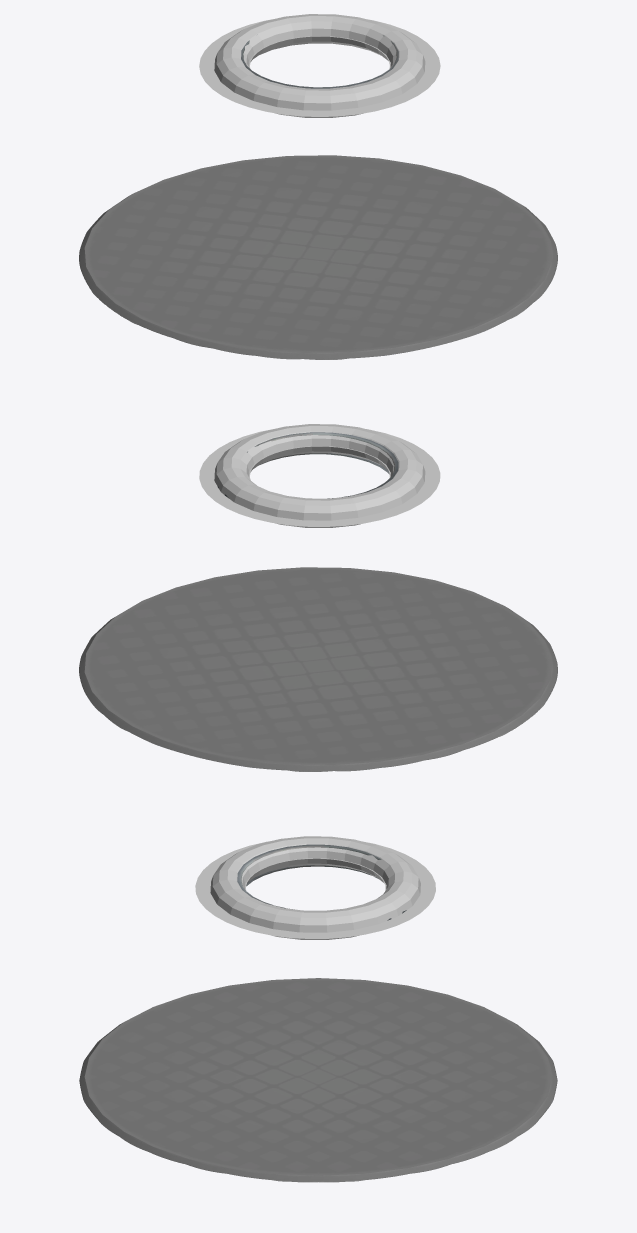
Rendered from pref_TPC_v2_WSJ_NeutralScoreArea03_purple_interfere_lv2.fbx.
3 views of the same model, one above another, from view 1: azimuth 30°, elevation 25°; view 2: azimuth 150°, elevation 25°; view 3: azimuth 270°, elevation 25° (orthographic).
Parts seen in each view (by area): view 1: sm_prop_platform06a_lv2, sm_fx_0037_ring_04_xz (1), sm_fx_0037_ring_04_xz; view 2: sm_prop_platform06a_lv2, sm_fx_0037_ring_04_xz (1), sm_fx_0037_ring_04_xz, sm_prop_platform06b_lv2; view 3: sm_prop_platform06a_lv2, sm_fx_0037_ring_04_xz (1), sm_fx_0037_ring_04_xz, sm_prop_platform06b_lv2.
Part boxes in pixels (x1,y1,x2,y2): sm_prop_platform06a_lv2: (79, 155, 557, 359); sm_fx_0037_ring_04_xz (1): (214, 14, 425, 117); sm_fx_0037_ring_04_xz: (199, 19, 440, 116); sm_prop_platform06a_lv2: (79, 567, 557, 771); sm_fx_0037_ring_04_xz (1): (214, 424, 425, 527); sm_fx_0037_ring_04_xz: (199, 429, 440, 526); sm_prop_platform06b_lv2: (217, 432, 398, 498); sm_prop_platform06a_lv2: (79, 978, 557, 1182); sm_fx_0037_ring_04_xz (1): (210, 836, 420, 939); sm_fx_0037_ring_04_xz: (195, 841, 435, 938); sm_prop_platform06b_lv2: (237, 844, 406, 920).
Size of the model in its own units: 7.46 by 2.9 by 7.46.
